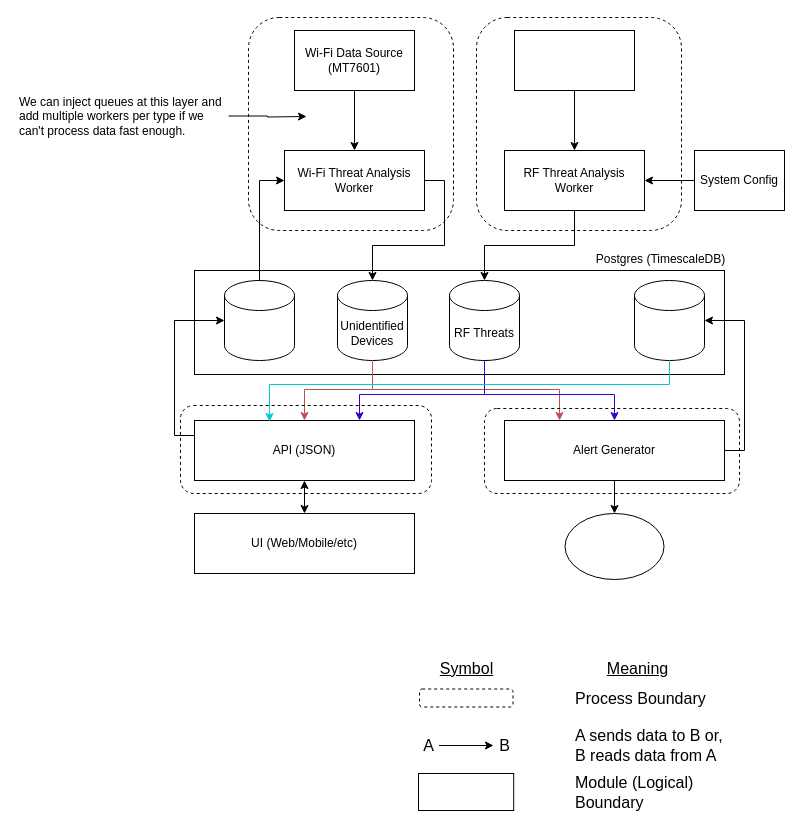
Image size: 802x830. Some labels were removed from this diagram. Each missing label, with the box of its shape:
Alerts Log: (634, 280, 704, 360)
Allow List: (224, 280, 294, 360)
Email/Text/Etc: (564, 512, 664, 580)
SDR Data Source (RTL-SDR): (514, 30, 634, 90)
